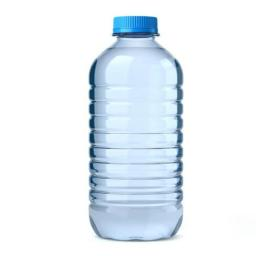Plastic: (88, 17, 187, 242)
